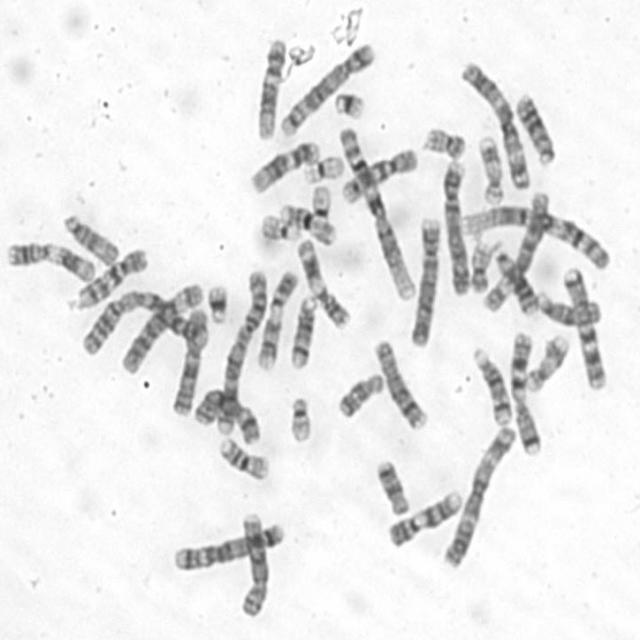A1: (335, 122, 417, 304), (458, 202, 612, 272)
A2: (213, 265, 270, 438), (78, 283, 207, 357)
A3: (438, 421, 519, 570), (457, 57, 533, 191)
B4: (406, 212, 442, 350), (439, 155, 472, 297)
B5: (278, 39, 378, 137), (170, 518, 286, 574)
C10: (66, 243, 150, 312), (338, 144, 420, 205)
C11: (292, 234, 352, 330), (4, 238, 99, 283)
C12: (247, 136, 322, 193), (254, 35, 288, 141)
C6: (479, 187, 553, 316), (118, 278, 205, 375)
C7: (560, 262, 608, 392), (507, 328, 542, 457)
C8: (370, 337, 430, 434), (235, 509, 270, 618)
C9: (386, 486, 464, 550), (253, 265, 300, 371)
D13: (492, 242, 539, 318), (512, 88, 556, 168)
D14: (468, 343, 512, 426), (286, 290, 318, 370)
D15: (62, 212, 121, 270), (534, 288, 603, 328)
E16: (276, 199, 337, 246), (216, 433, 272, 481)
E17: (522, 329, 571, 394), (475, 132, 504, 206)
E18: (334, 369, 385, 420), (372, 455, 412, 517)
F19: (300, 153, 346, 185), (310, 180, 330, 237)
F20: (421, 123, 468, 162), (468, 237, 492, 294)
G21: (331, 87, 366, 121), (206, 281, 232, 326)
G22: (288, 394, 316, 445), (257, 212, 303, 243)
X: (167, 304, 210, 418), (190, 384, 263, 445)
